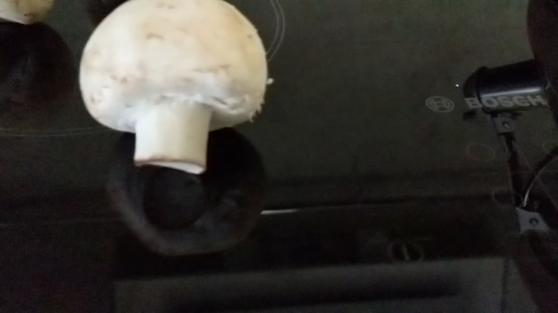champignon: (75, 1, 281, 177)
